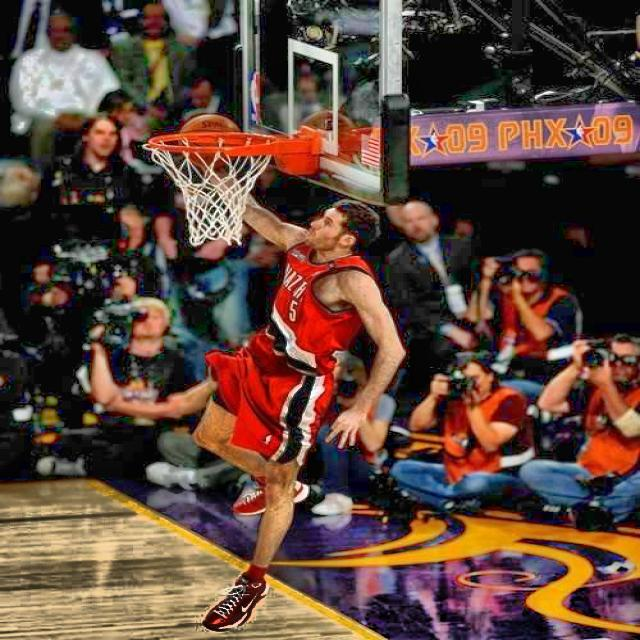rim: (144, 133, 276, 246)
